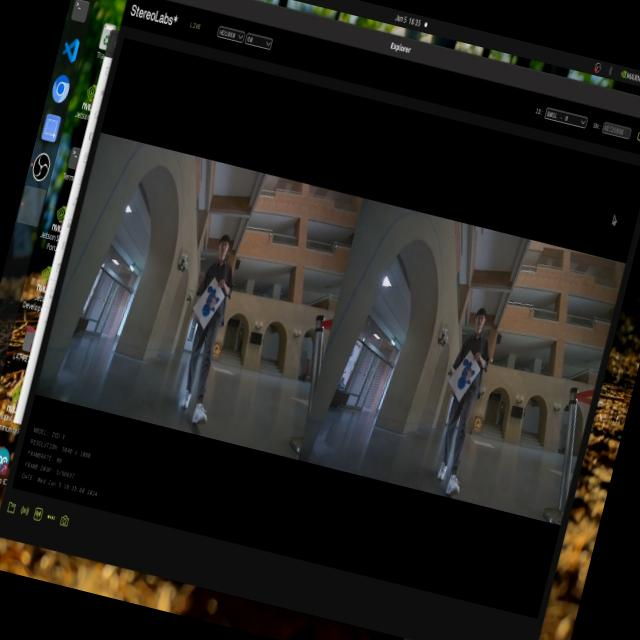blue: (190, 281, 222, 324), (459, 356, 479, 398)
